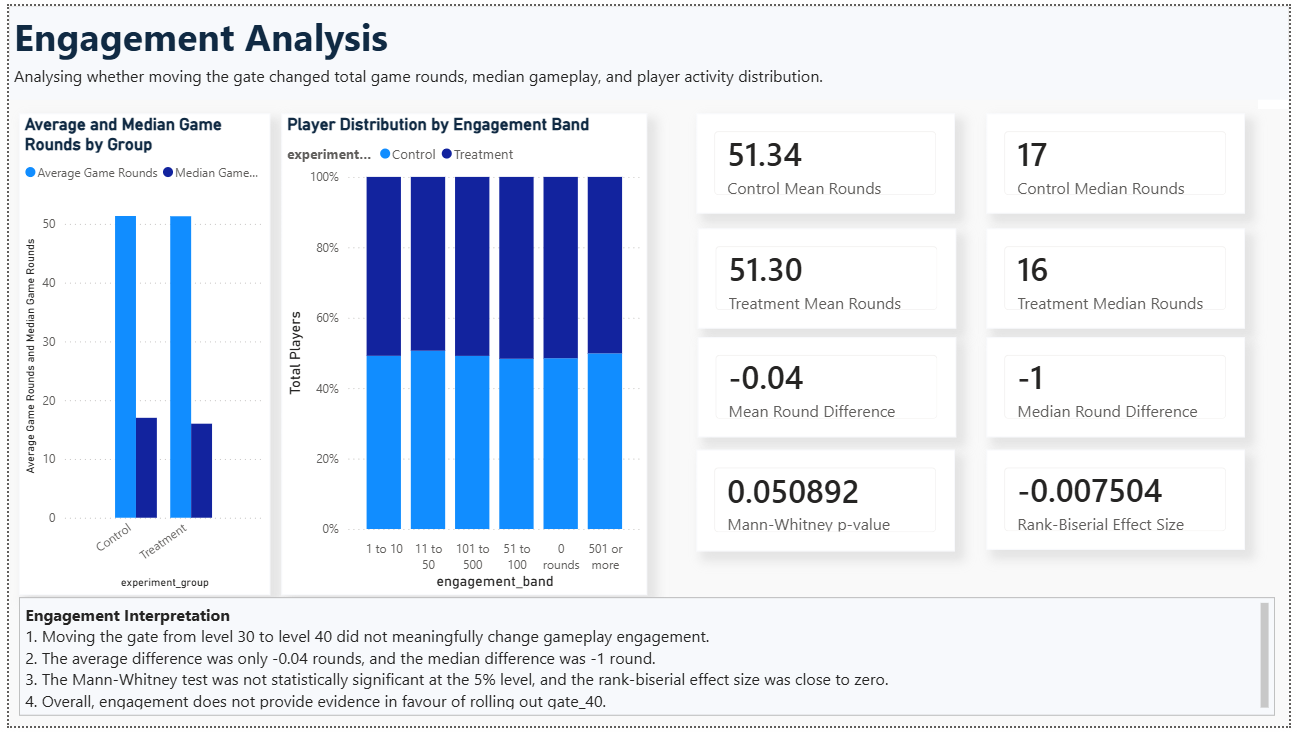

Layout of this report page (visuals, bound fields, positions):
{"tool":"powerbi","page":{"name":"Engagement Analysis","canvas":[1280,720],"ordinal":3},"visuals":[{"type":"clusteredColumnChart","title":"Average and Median Game Rounds by Group","fields":{"Category":["Experiment Groups.experiment_group"],"Y":["Player Detail.Average Game Rounds","Player Detail.Median Game Rounds"]},"box":[10,107.1,251.4,481.4],"z":0},{"type":"hundredPercentStackedColumnChart","title":"Player Distribution by Engagement Band","fields":{"Category":["Player Detail.engagement_band"],"Series":["Experiment Groups.experiment_group"],"Y":["Player Detail.Total Players"]},"box":[272.9,107.1,365.7,481.4],"z":1000},{"type":"cardVisual","fields":{"Data":["Engagement Statistics.Control Mean Rounds"]},"box":[687.1,107.1,258.6,100],"z":2000},{"type":"cardVisual","fields":{"Data":["Engagement Statistics.Treatment Mean Rounds"]},"box":[688.6,222.9,258.6,100],"z":3000},{"type":"cardVisual","fields":{"Data":["Engagement Statistics.Mean Round Difference"]},"box":[688.6,331.4,258.6,100],"z":4000},{"type":"cardVisual","fields":{"Data":["Engagement Statistics.Control Median Rounds"]},"box":[977.1,107.1,258.6,100],"z":5000},{"type":"cardVisual","fields":{"Data":["Engagement Statistics.Treatment Median Rounds"]},"box":[977.1,222.9,258.6,100],"z":6000},{"type":"cardVisual","fields":{"Data":["Engagement Statistics.Median Round Difference"]},"box":[977.1,331.4,258.6,100],"z":7000},{"type":"cardVisual","fields":{"Data":["Engagement Statistics.Mann-Whitney p-value"]},"box":[687.1,444.3,258.6,101.4],"z":8000},{"type":"cardVisual","fields":{"Data":["Engagement Statistics.Rank-Biserial Effect Size"]},"box":[977.1,444.3,258.6,100],"z":9000},{"type":"textbox","box":[10,591.4,1255.7,118.6],"z":10000},{"type":"textbox","box":[0,0,1280,74.3],"z":11000},{"type":"textbox","box":[0,54.3,1280,40],"z":12000}]}

Visuals, with their boxes in screenshot pixels (x1, y1, x2, y2), scaled from the page's 1280x720 canvas onto the 1297x732 screenshot:
"Average and Median Game Rounds by Group" clusteredColumnChart: pyautogui.locateOnScreen(10, 109, 265, 598)
"Player Distribution by Engagement Band" hundredPercentStackedColumnChart: pyautogui.locateOnScreen(277, 109, 647, 598)
cardVisual - Engagement Statistics.Control Mean Rounds: pyautogui.locateOnScreen(696, 109, 958, 211)
cardVisual - Engagement Statistics.Treatment Mean Rounds: pyautogui.locateOnScreen(698, 227, 960, 328)
cardVisual - Engagement Statistics.Mean Round Difference: pyautogui.locateOnScreen(698, 337, 960, 439)
cardVisual - Engagement Statistics.Control Median Rounds: pyautogui.locateOnScreen(990, 109, 1252, 211)
cardVisual - Engagement Statistics.Treatment Median Rounds: pyautogui.locateOnScreen(990, 227, 1252, 328)
cardVisual - Engagement Statistics.Median Round Difference: pyautogui.locateOnScreen(990, 337, 1252, 439)
cardVisual - Engagement Statistics.Mann-Whitney p-value: pyautogui.locateOnScreen(696, 452, 958, 555)
cardVisual - Engagement Statistics.Rank-Biserial Effect Size: pyautogui.locateOnScreen(990, 452, 1252, 553)
textbox: pyautogui.locateOnScreen(10, 601, 1283, 722)
textbox: pyautogui.locateOnScreen(0, 0, 1296, 76)
textbox: pyautogui.locateOnScreen(0, 55, 1296, 96)
